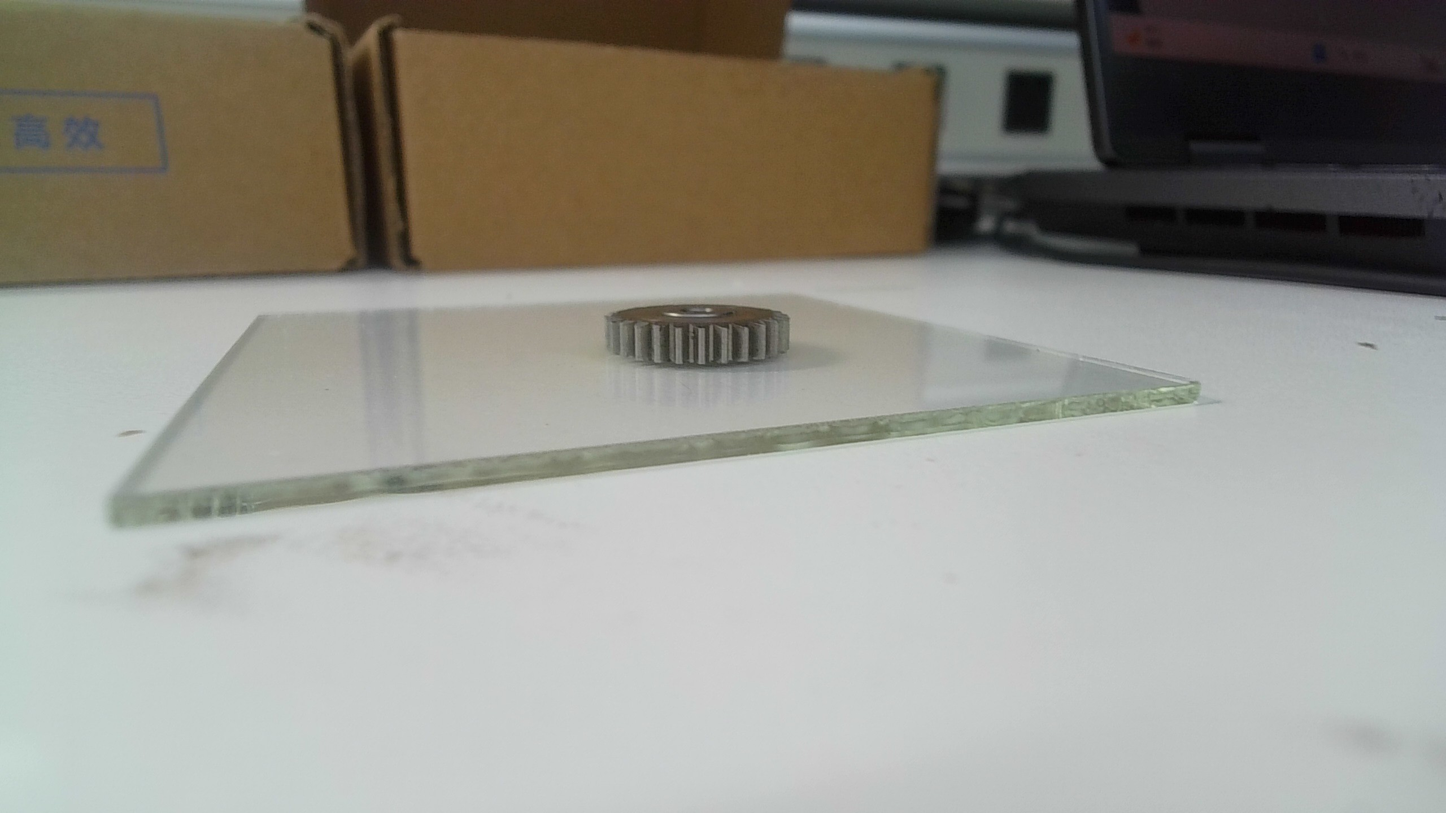gear: (602, 301, 796, 369)
